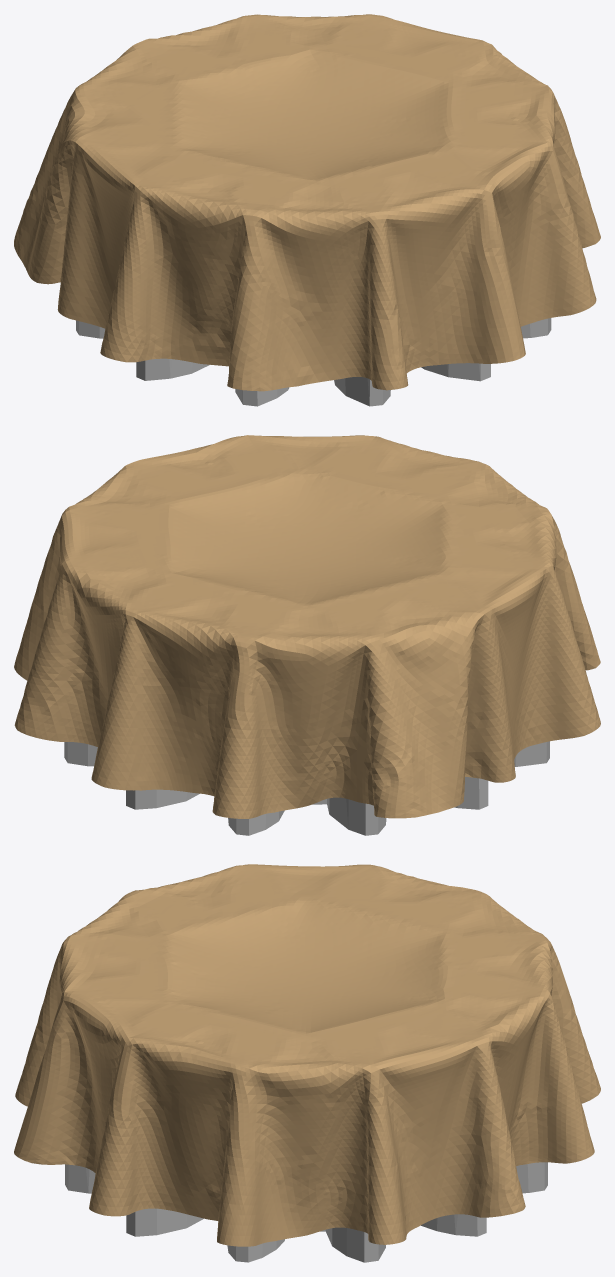
The model's file is level_3.glb.
3 renders of one model, top to bottom at view 1: azimuth 30°, elevation 25°; view 2: azimuth 150°, elevation 25°; view 3: azimuth 270°, elevation 25°, orthographic. The views are drawn at different scales.
Visible parts, largest first — view 1: world, object.obj; view 2: world, object.obj; view 3: world, object.obj.
Boxes of the visible parts, <box> form: world: <box>14,14,600,391</box>; object.obj: <box>76,318,551,406</box>; world: <box>14,435,600,818</box>; object.obj: <box>64,741,549,835</box>; world: <box>14,864,600,1246</box>; object.obj: <box>65,1162,547,1262</box>.
Size of the model in its own units: 0.4214 by 0.1564 by 0.4243.
